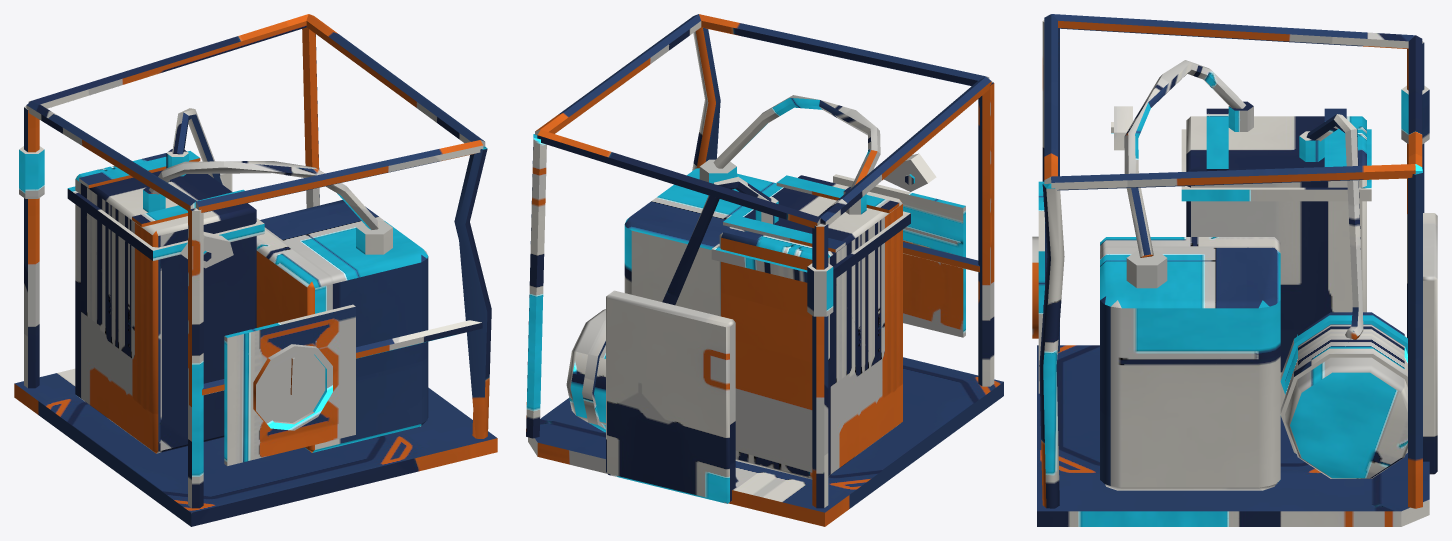
The model's file is R4X_Battery_LOD1.fbx.
3 renders of one model, left to right at view 1: azimuth 30°, elevation 25°; view 2: azimuth 150°, elevation 25°; view 3: azimuth 270°, elevation 25°, orthographic. The views are drawn at different scales.
Parts seen in each view (by area): view 1: R4X_Battery_LOD1; view 2: R4X_Battery_LOD1; view 3: R4X_Battery_LOD1.
Boxes of the visible parts, bbox=[...] form: R4X_Battery_LOD1: bbox=[14, 14, 497, 526]; R4X_Battery_LOD1: bbox=[526, 14, 1003, 526]; R4X_Battery_LOD1: bbox=[1032, 14, 1437, 526].
Size of the model in its own units: 0.5 by 0.496 by 0.516.
